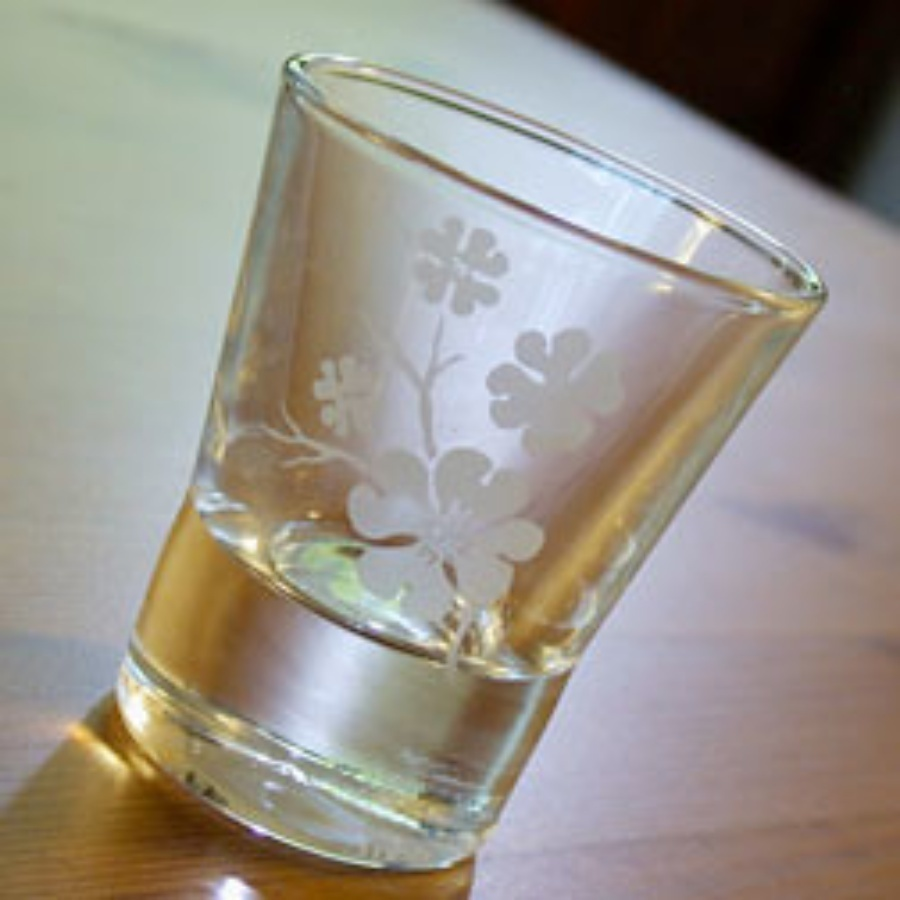whiskey: (131, 114, 764, 846)
